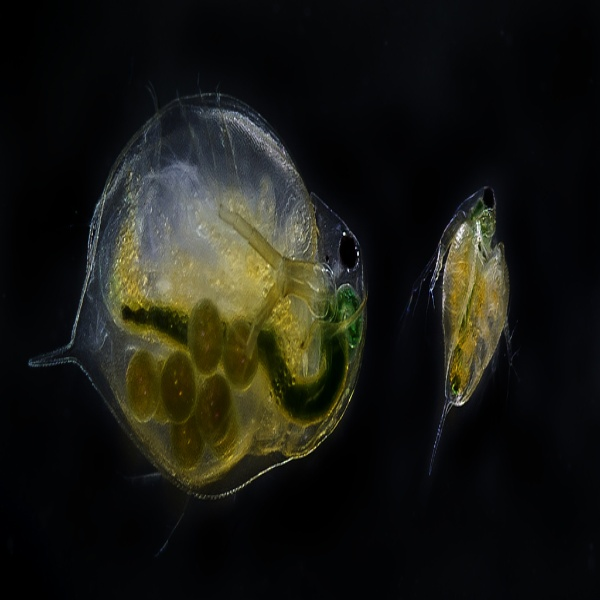Jellyfish: (43, 87, 357, 493)
